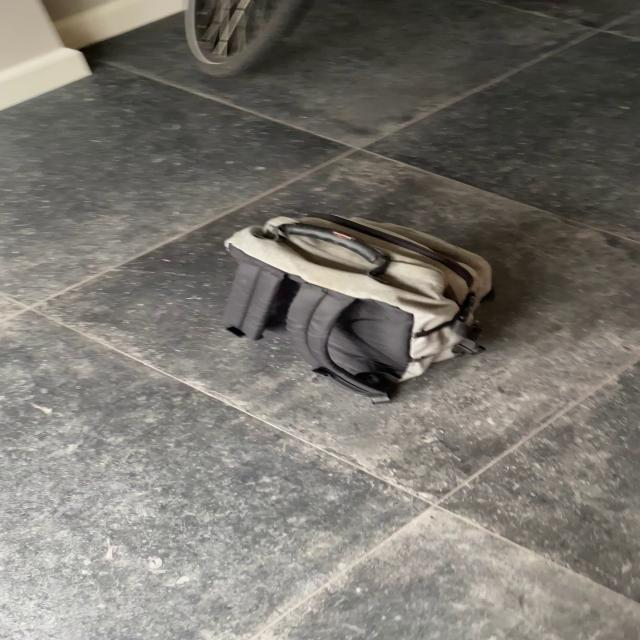backpack: (207, 205, 504, 401)
